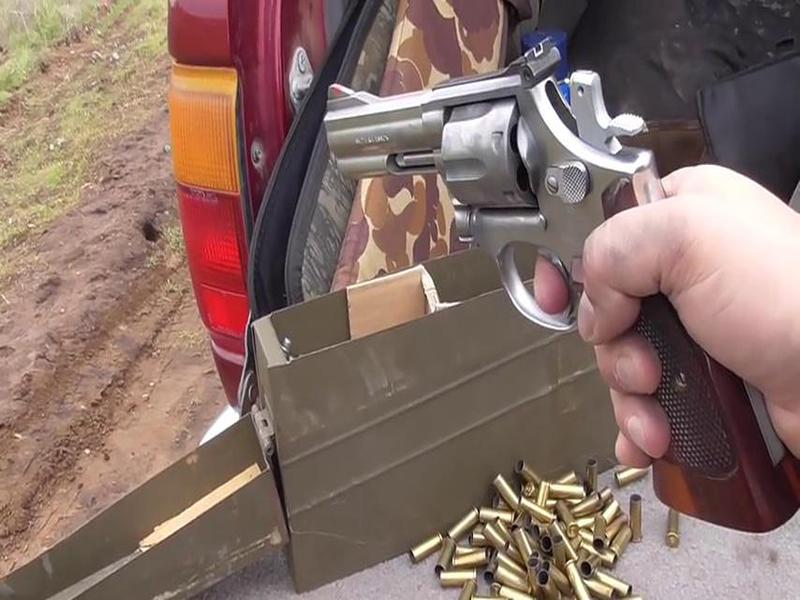Revolver: (322, 48, 716, 474)
